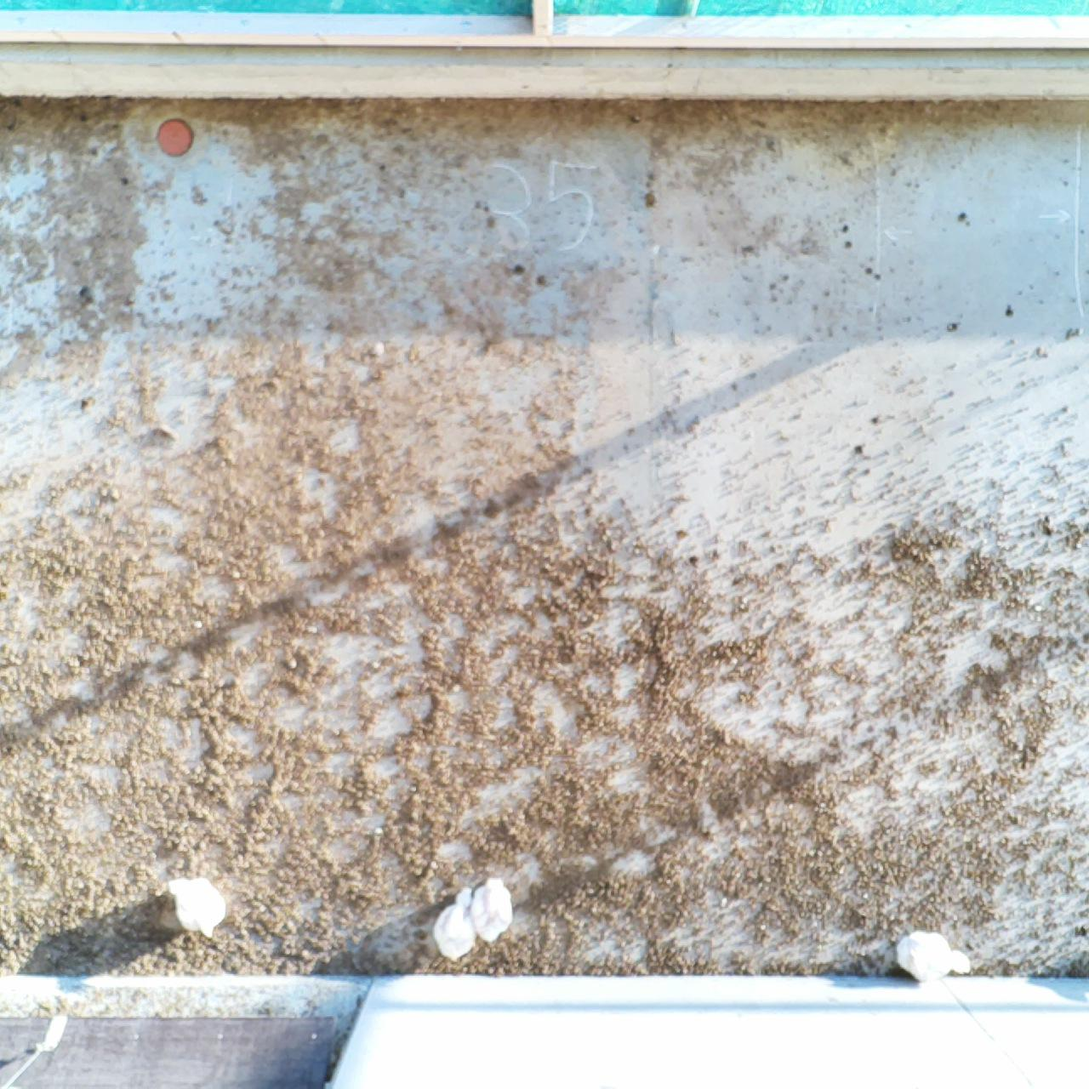chicken: (889, 925, 975, 985), (164, 868, 227, 939), (431, 886, 483, 964), (472, 870, 514, 951)
